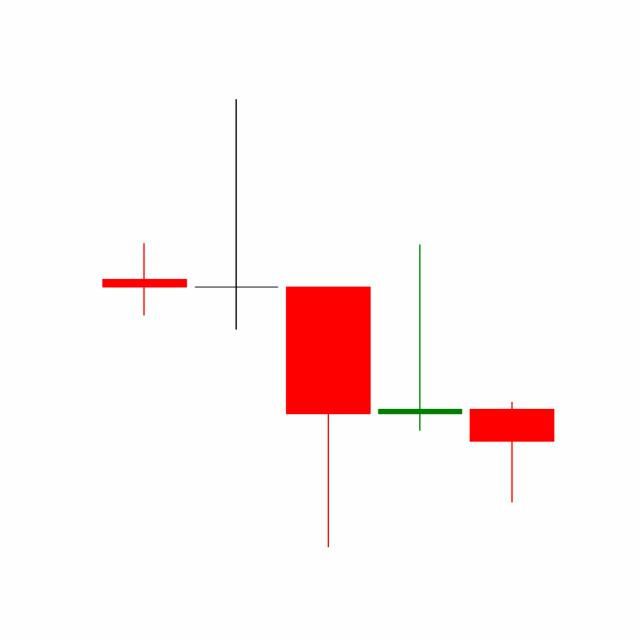Gravestone Doji: (373, 241, 467, 433)
